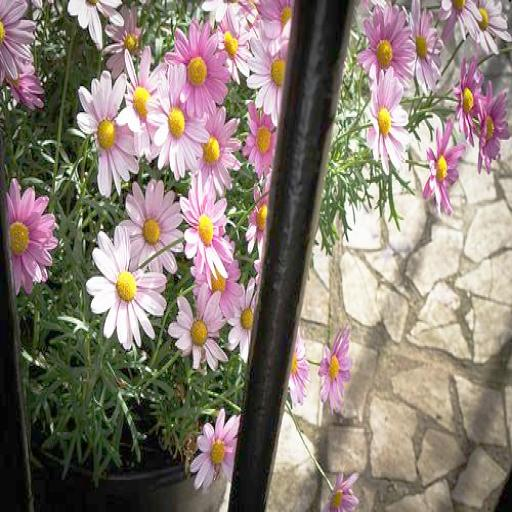daisy: (90, 223, 164, 343), (5, 182, 53, 290), (167, 24, 228, 108), (81, 84, 135, 178), (126, 180, 183, 269), (154, 78, 196, 184), (172, 289, 226, 371), (186, 188, 234, 278), (357, 9, 412, 86), (124, 60, 163, 157), (198, 108, 238, 195), (368, 86, 410, 163), (194, 414, 236, 480), (479, 80, 508, 174), (427, 124, 458, 210), (252, 37, 286, 115), (321, 330, 352, 400), (331, 461, 357, 512), (232, 291, 254, 349), (460, 63, 479, 129), (257, 2, 294, 30)
